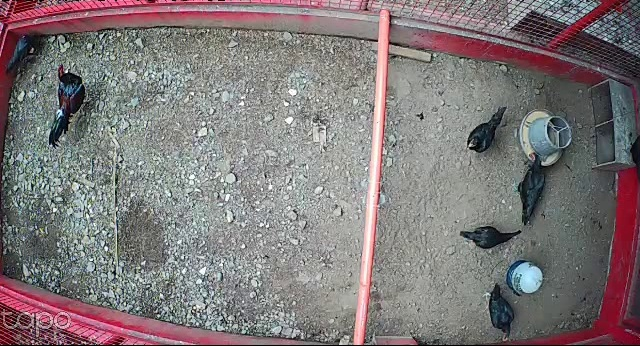Chicken: (511, 148, 546, 226), (480, 282, 517, 345), (466, 106, 509, 154), (458, 220, 524, 251), (5, 33, 39, 75)
Drinker: (506, 258, 545, 295)
Feeder: (518, 105, 573, 168)
Leg_Band_Green: (514, 185, 520, 194)
Leg_Band_White: (482, 292, 491, 299)
Rooster: (47, 62, 93, 150)
